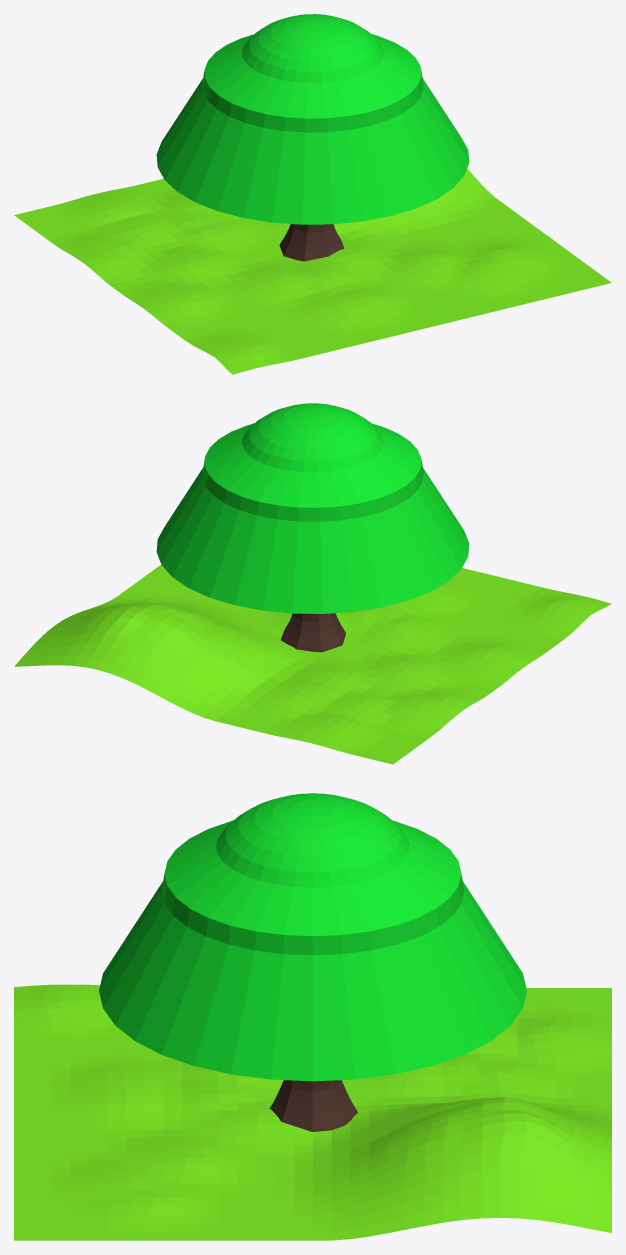
Rendered from tree.fbx.
The picture shows the model from 3 angles, top to bottom: view 1: azimuth 30°, elevation 25°; view 2: azimuth 150°, elevation 25°; view 3: azimuth 270°, elevation 25°; orthographic projection. The views are drawn at different scales.
Visible parts, largest first — view 1: Plane, Sphere, Plane.001; view 2: Plane, Sphere, Plane.001; view 3: Plane, Sphere, Plane.001.
Boxes of the visible parts, left/top/right/bottom form: Plane: left=14, top=168, right=611, bottom=374; Sphere: left=156, top=14, right=469, bottom=224; Plane.001: left=279, top=224, right=343, bottom=261; Plane: left=14, top=564, right=611, bottom=764; Sphere: left=156, top=403, right=469, bottom=613; Plane.001: left=281, top=613, right=345, bottom=652; Plane: left=14, top=984, right=611, bottom=1240; Sphere: left=99, top=793, right=526, bottom=1081; Plane.001: left=269, top=1080, right=357, bottom=1131.
Bounding box in the file's own units: 15012 × 8595 × 15000.
